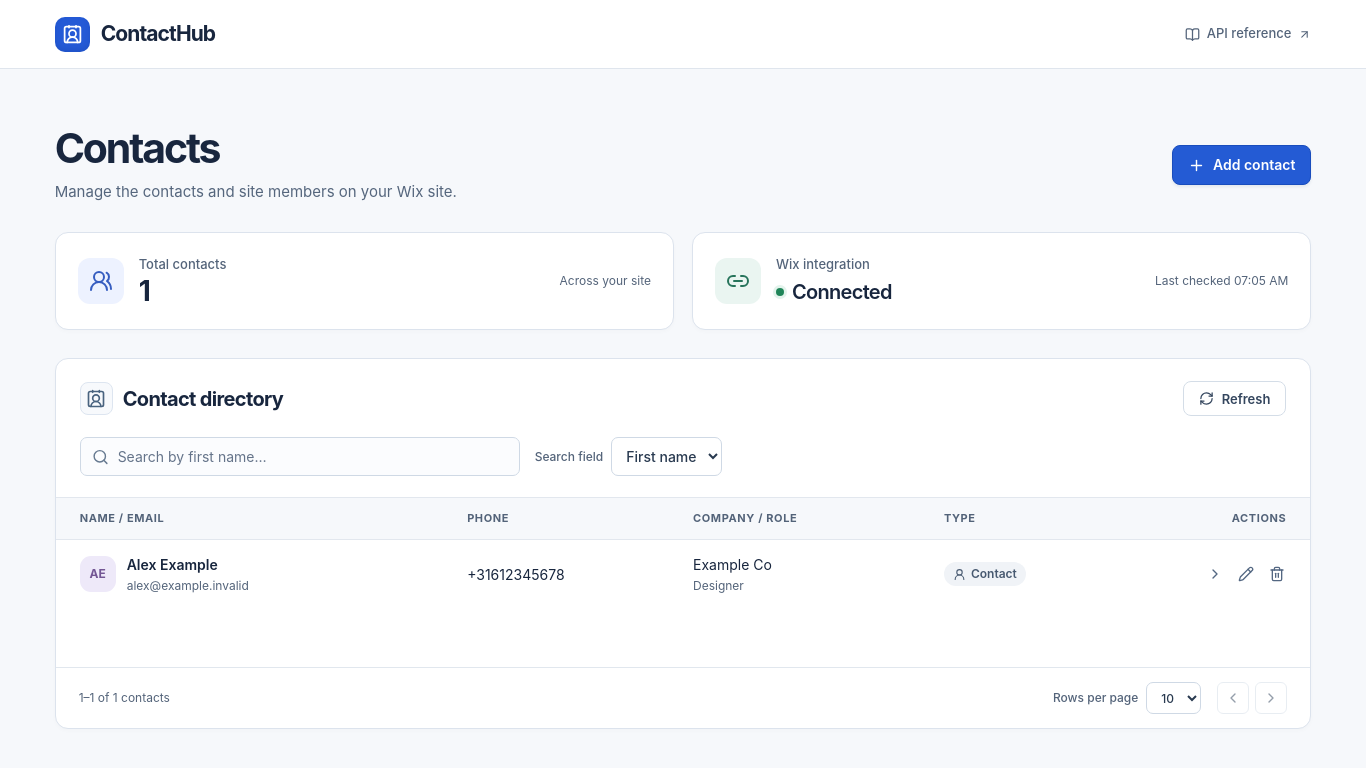
Test: renders both international entries and marks only the second as primary in details and edit
Check: the text "Connected" is shown, box [776,277,892,307]
Check: the text "+31612345678" is shown, box [457,540,683,609]
Click the button with aria-label "View details for Alex Example · alex@example.invalid · +3161": (164, 574) [80,554,249,595]
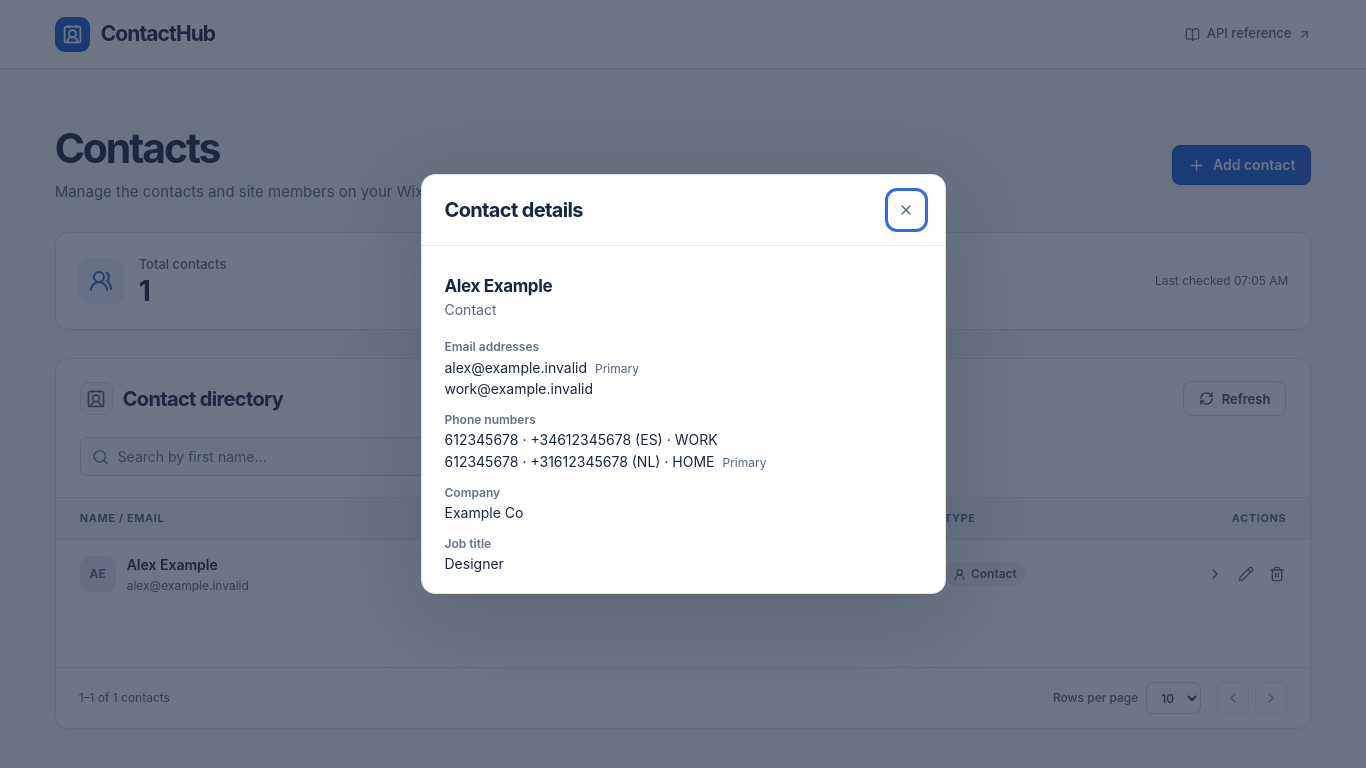
Check: the text "Primary" next to "· HOME" is shown, box [722,455,766,470]
Click the button named "Close dialog": (906, 210) [890,194,922,226]
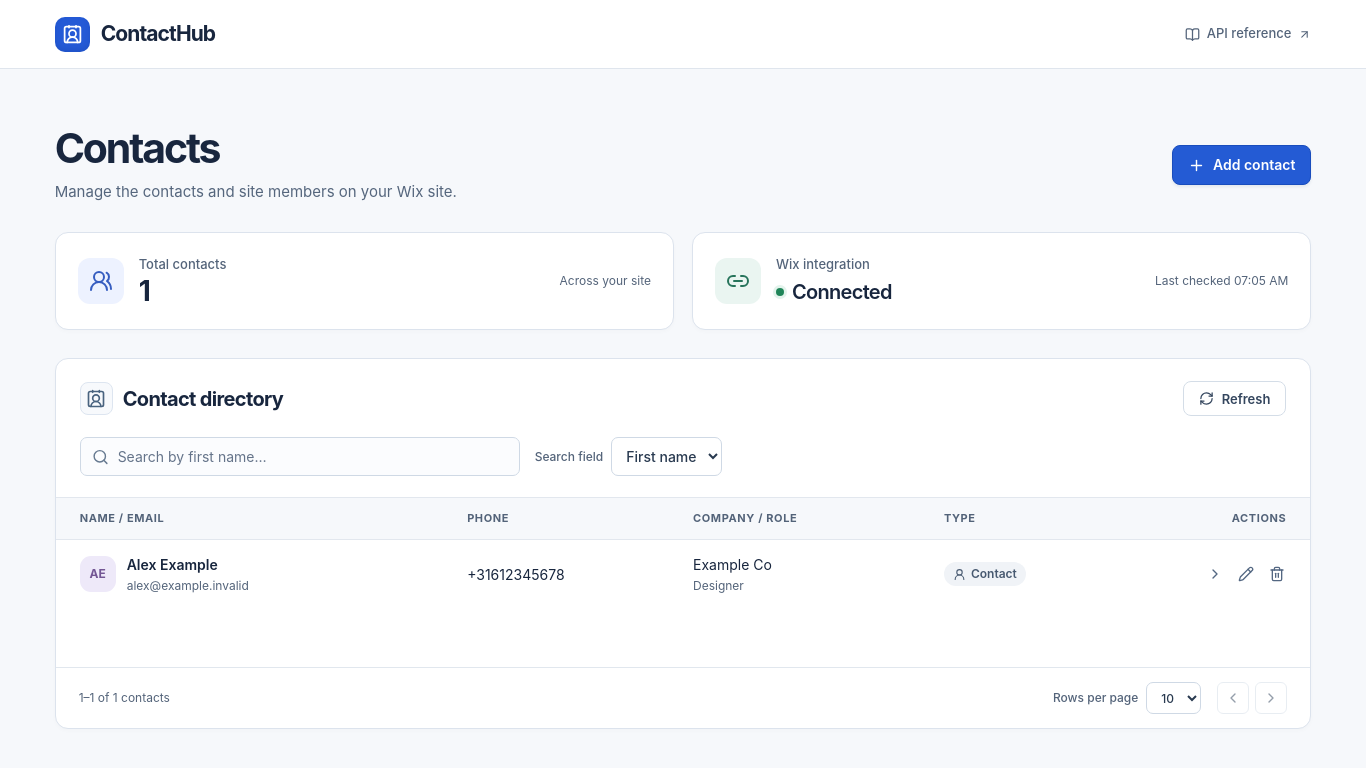
Click the button named "Edit Alex Example · alex@example.invalid · +31612345678": (1246, 574) [1230,558,1261,590]
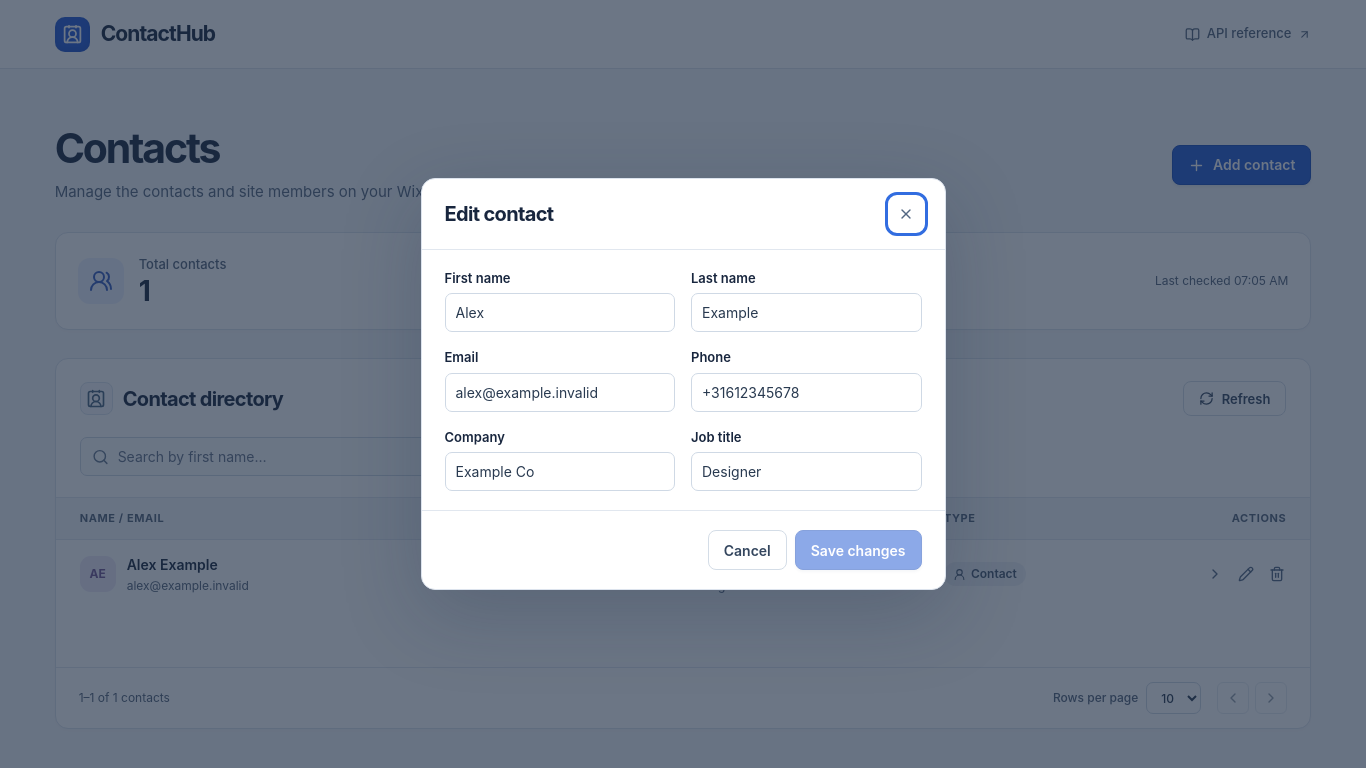
Check: the field showing "+31612345678" is shown, box [691,373,922,412]
